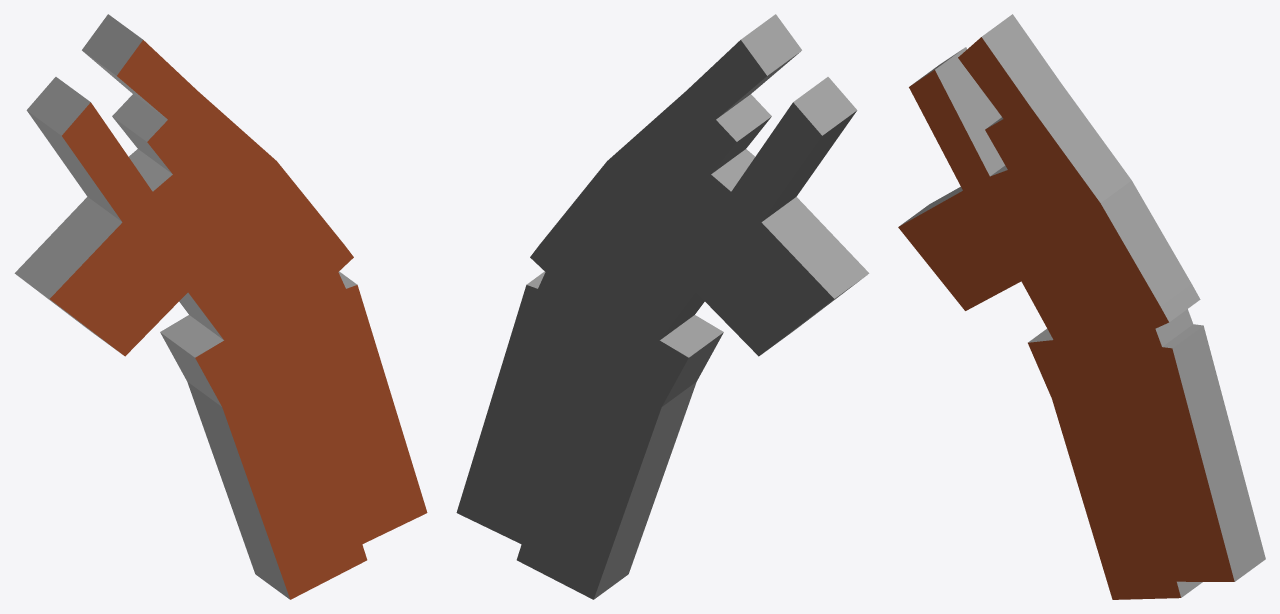
Rendered from construction_3847_assumed_A_Casa_h6m.obj.
The picture shows the model from 3 angles, left to right: view 1: azimuth 30°, elevation 25°; view 2: azimuth 150°, elevation 25°; view 3: azimuth 330°, elevation 25°; orthographic projection. The views are drawn at different scales.
Visible parts, largest first — view 1: construction_3847_assumed_A_Casa; view 2: construction_3847_assumed_A_Casa; view 3: construction_3847_assumed_A_Casa.
Boxes of the visible parts, bbox=[...] form: construction_3847_assumed_A_Casa: bbox=[14, 14, 427, 599]; construction_3847_assumed_A_Casa: bbox=[456, 14, 869, 599]; construction_3847_assumed_A_Casa: bbox=[898, 14, 1265, 599].
Size of the model in its own units: 37.3 by 56.23 by 6.
